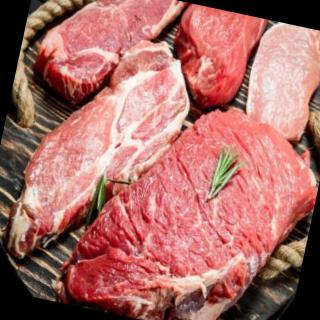Daging Sapi: (56, 80, 320, 320), (6, 19, 202, 285), (33, 1, 182, 123), (166, 4, 264, 112), (240, 19, 320, 144)
